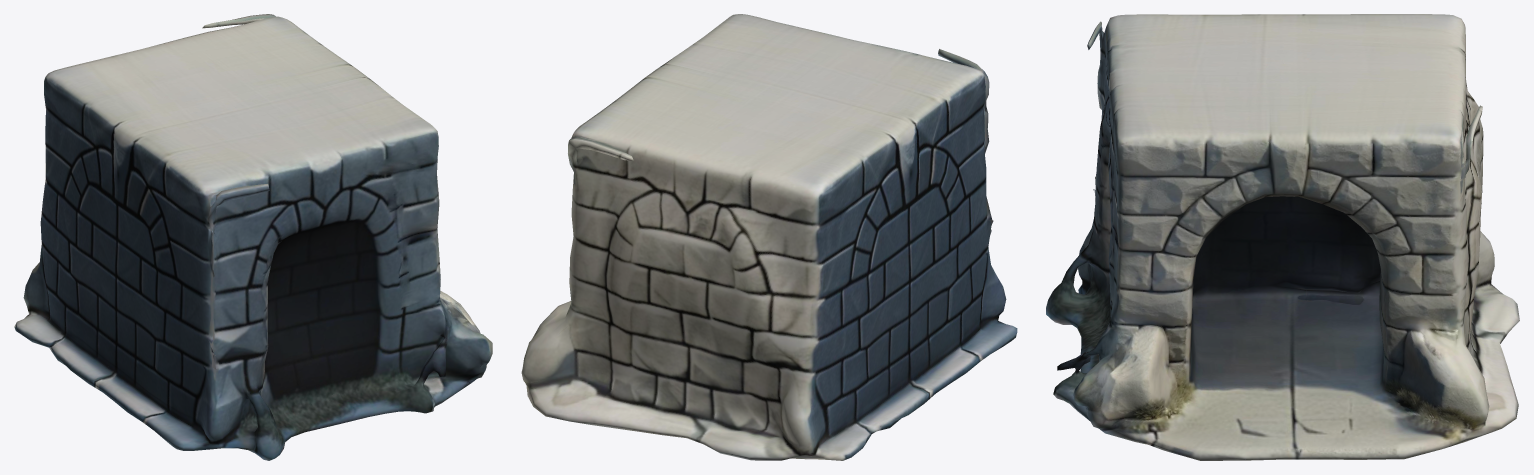
File: tunnelEnt2in1f.fbx
3 views of the same model, side by side, from view 1: azimuth 30°, elevation 25°; view 2: azimuth 150°, elevation 25°; view 3: azimuth 270°, elevation 25° (orthographic). The views are drawn at different scales.
Parts seen in each view (by area): view 1: tripo_node_8bc2494a; view 2: tripo_node_8bc2494a; view 3: tripo_node_8bc2494a.
Part boxes in pixels (x1,y1,x2,y2): tripo_node_8bc2494a: (14, 14, 492, 460); tripo_node_8bc2494a: (521, 14, 1017, 460); tripo_node_8bc2494a: (1046, 14, 1519, 460).
Size of the model in its own units: 64.31 by 47.51 by 70.78.
1 material, 1 textured.
